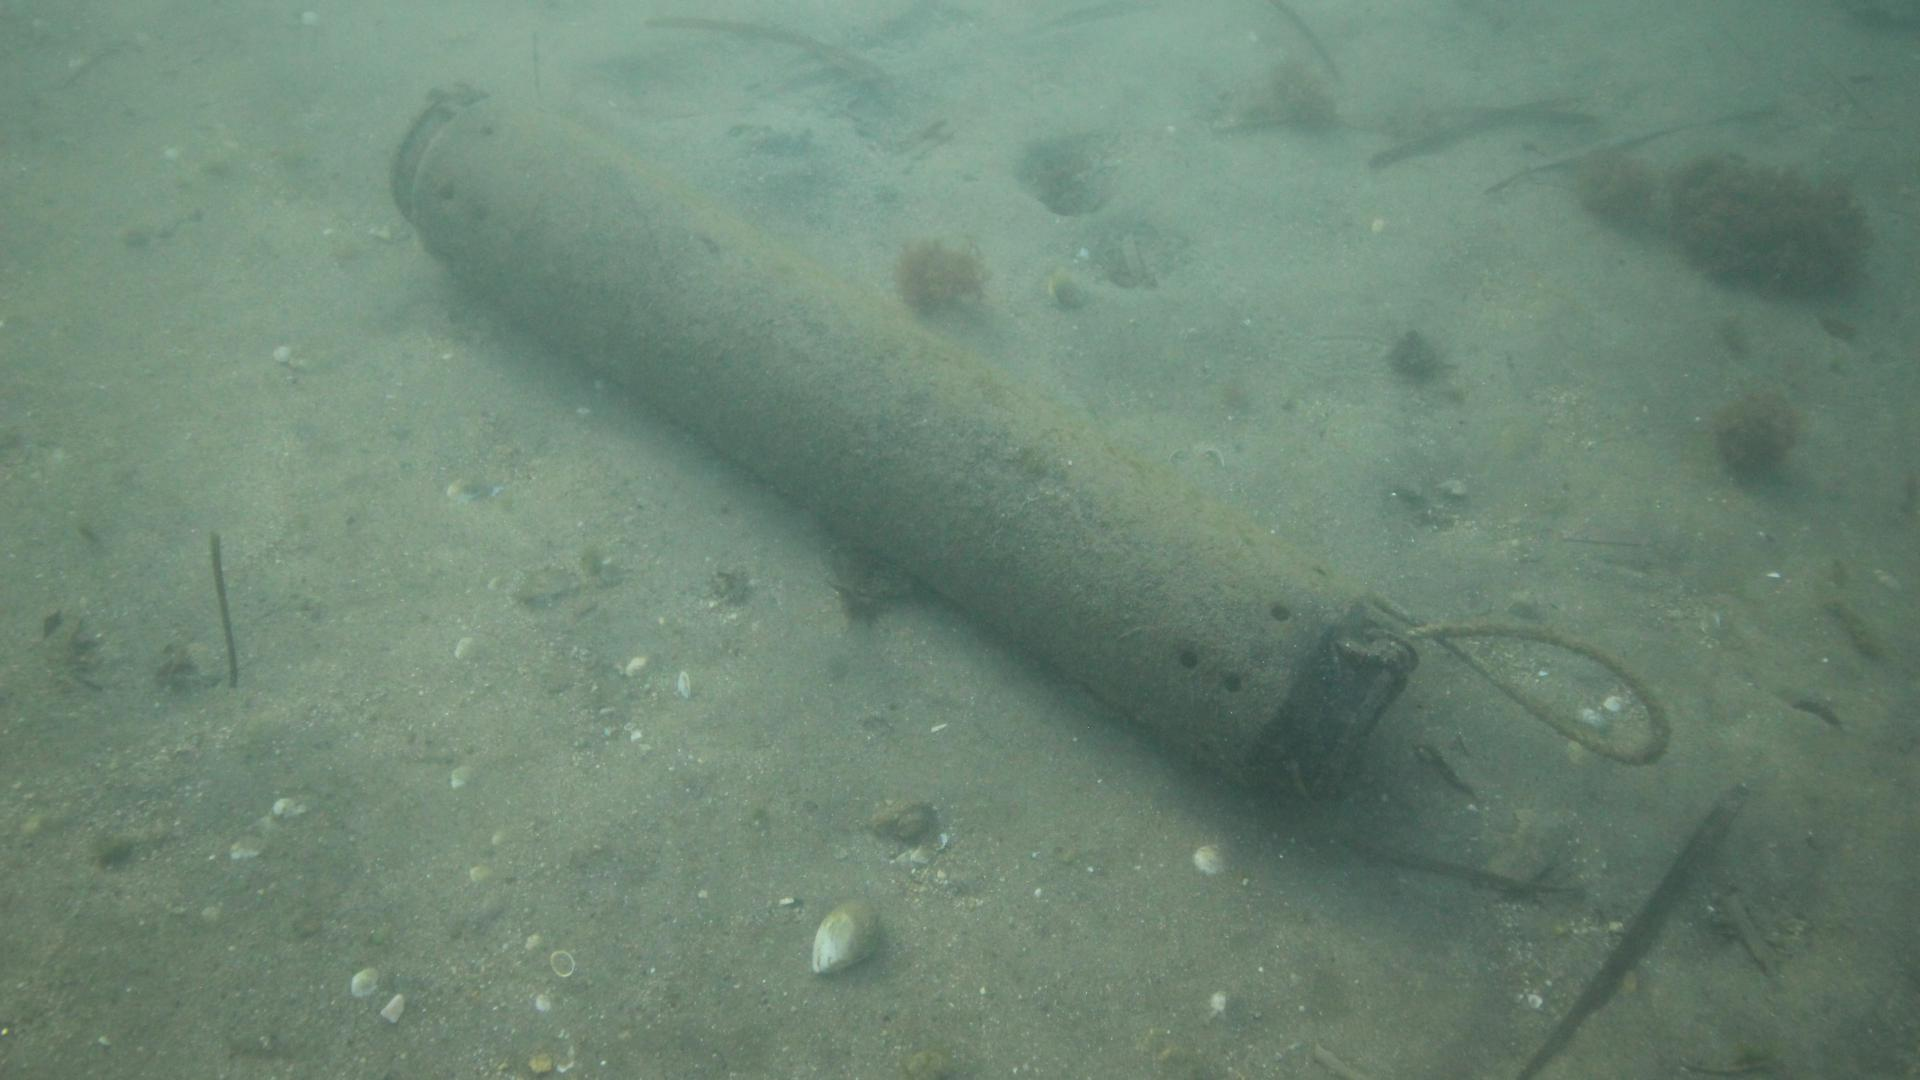eel fish trap: (389, 83, 1414, 804)
rope: (1410, 617, 1672, 769)
